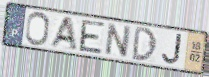A: (47, 17, 78, 51)
D: (131, 25, 158, 63)
E: (79, 19, 107, 56)
J: (161, 33, 183, 66)
N: (103, 22, 134, 59)
O: (24, 11, 50, 47)
